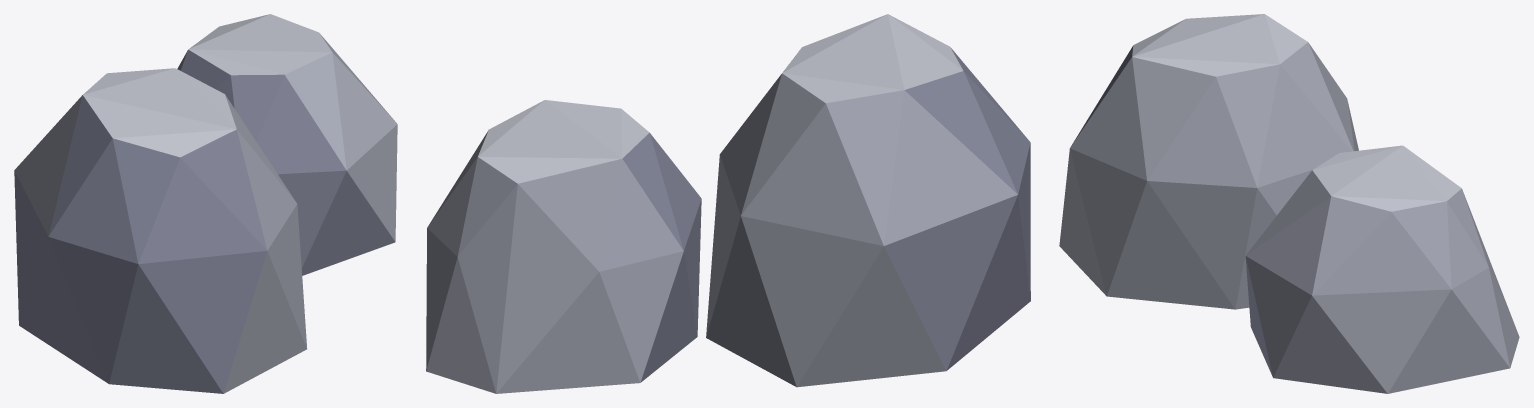
File: rocks-low.glb
The picture shows the model from 3 angles, left to right: view 1: azimuth 30°, elevation 25°; view 2: azimuth 150°, elevation 25°; view 3: azimuth 270°, elevation 25°; orthographic projection. The views are drawn at different scales.
Parts seen in each view (by area): view 1: rocks-low; view 2: rocks-low; view 3: rocks-low.
Part boxes in pixels (box(x1,y1,x2,y2)): rocks-low: box(14, 14, 397, 393); rocks-low: box(426, 14, 1030, 393); rocks-low: box(1059, 14, 1519, 393).
Bounding box in the file's own units: 1 × 0.52 × 1.
1 material, 1 textured.
